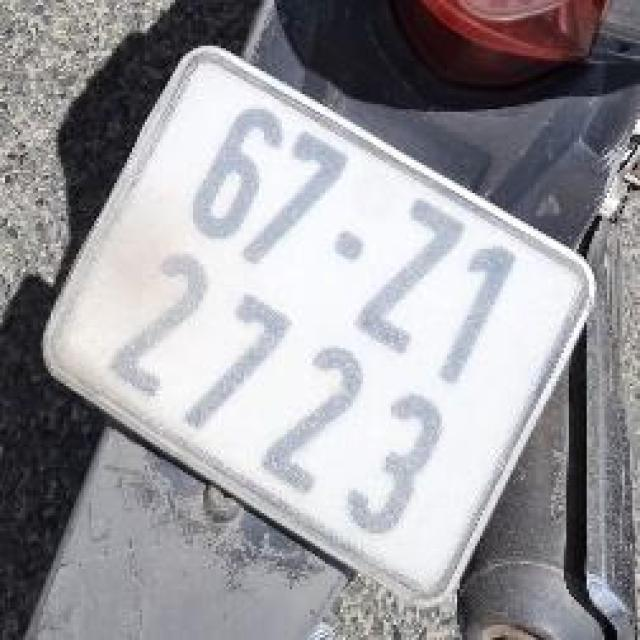1: (422, 232, 533, 391)
2: (249, 341, 390, 500), (99, 237, 230, 405)
3: (328, 379, 461, 547)
6: (181, 92, 296, 249)
7: (226, 120, 352, 277), (176, 281, 301, 439)
Z: (344, 171, 475, 379)
